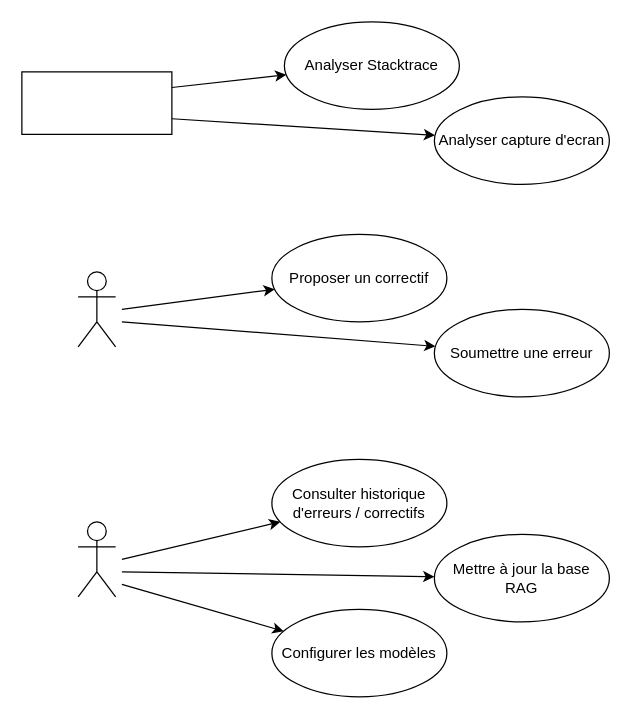
The diagram is 631 pixels wide and 719 high, and some of its shapes have lost their labels. Here are the shapes that lost their labels. From the top down, the box of each, then its label:
(21, 71, 172, 134): «actor» Système
(77, 271, 116, 347): Utilisateur
(77, 521, 116, 597): Administrateur du système
